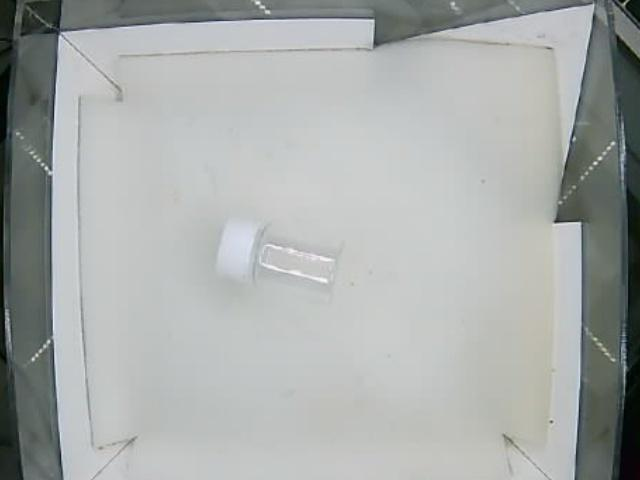Bottle: (214, 216, 341, 307)
